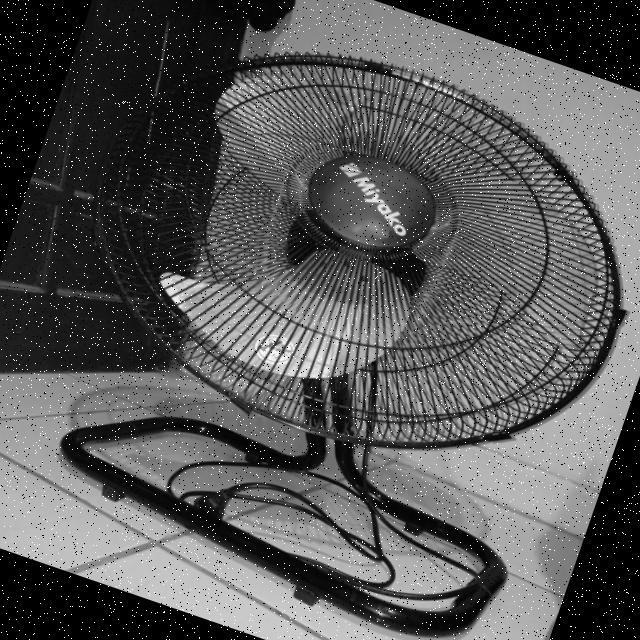fan: (29, 0, 640, 530)
